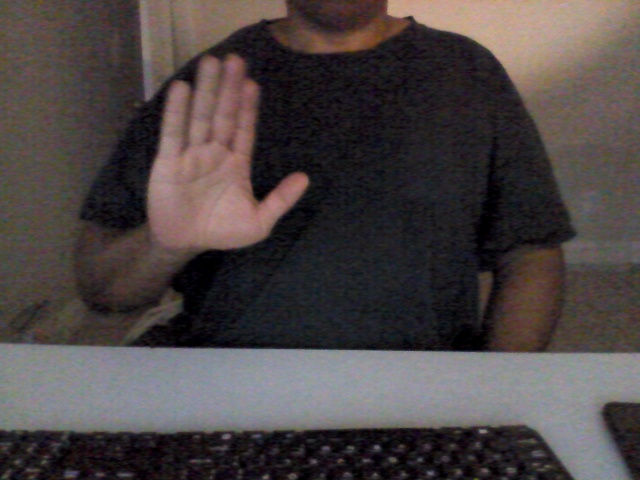hello: (141, 48, 314, 256)
